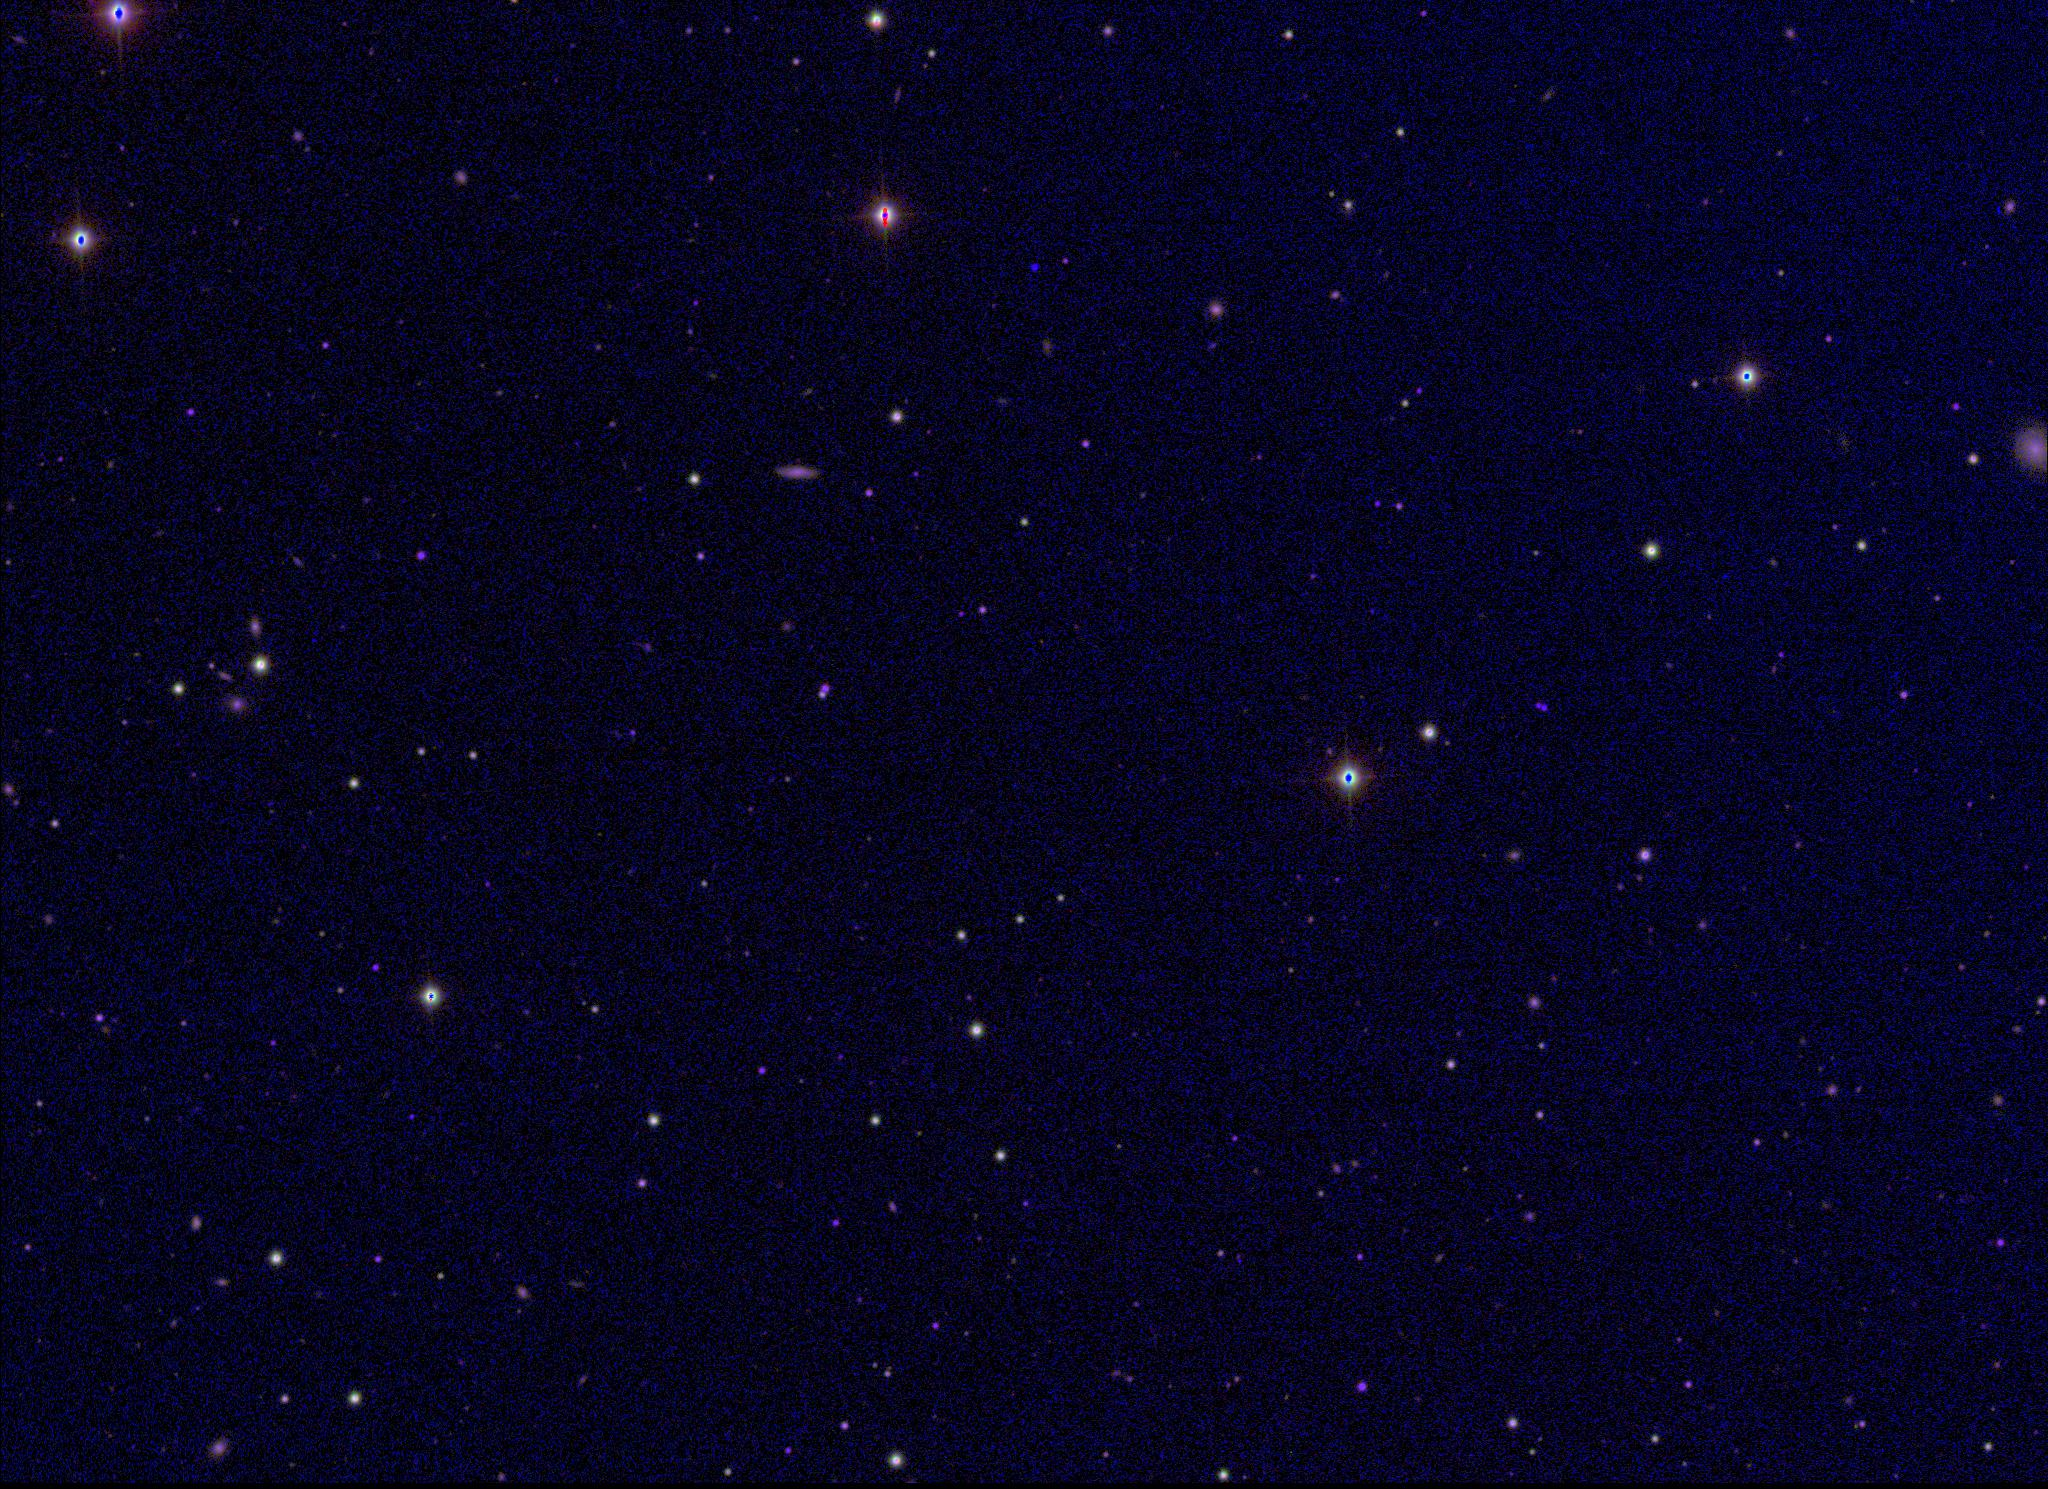L: (1029, 259, 1041, 274)
